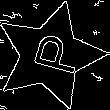P_W: (19, 31, 81, 81)
